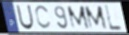9: (54, 5, 69, 30)
C: (34, 5, 53, 31)
L: (104, 5, 124, 32)
M: (83, 5, 109, 31), (66, 5, 91, 31)
U: (15, 4, 35, 31)
